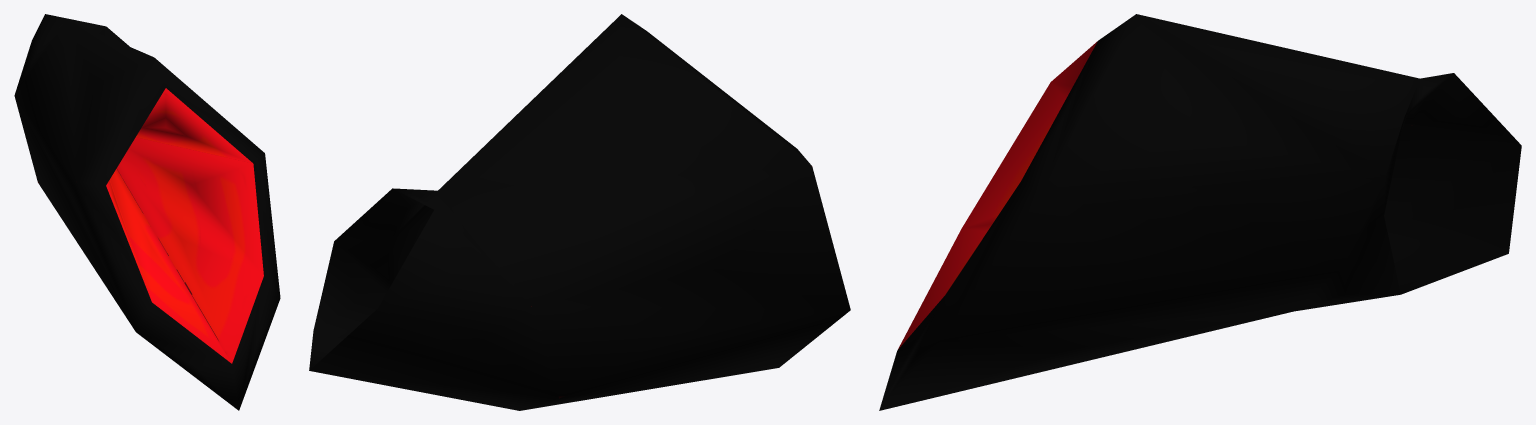
The model's file is grim_antebrazo.obj.
The picture shows the model from 3 angles, left to right: view 1: azimuth 30°, elevation 25°; view 2: azimuth 150°, elevation 25°; view 3: azimuth 270°, elevation 25°; orthographic projection. The views are drawn at different scales.
Visible parts, largest first — view 1: antebrazo; view 2: antebrazo; view 3: antebrazo.
Boxes of the visible parts, box(x1,y1,x2,y2) form: antebrazo: box(14, 14, 280, 410); antebrazo: box(309, 14, 850, 410); antebrazo: box(879, 14, 1521, 410).
Size of the model in its own units: 0.0837 by 0.1165 by 0.169.
Materials: 1 (1 with a texture image).
